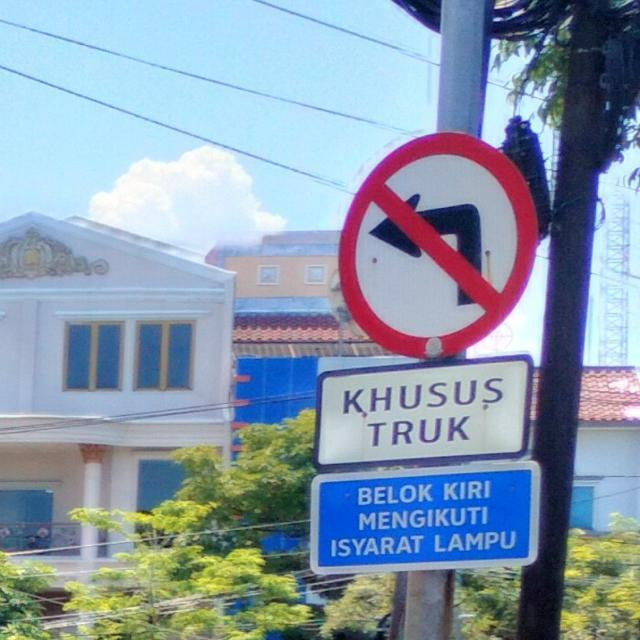Dilarang Belok Kiri: (337, 130, 539, 358)
